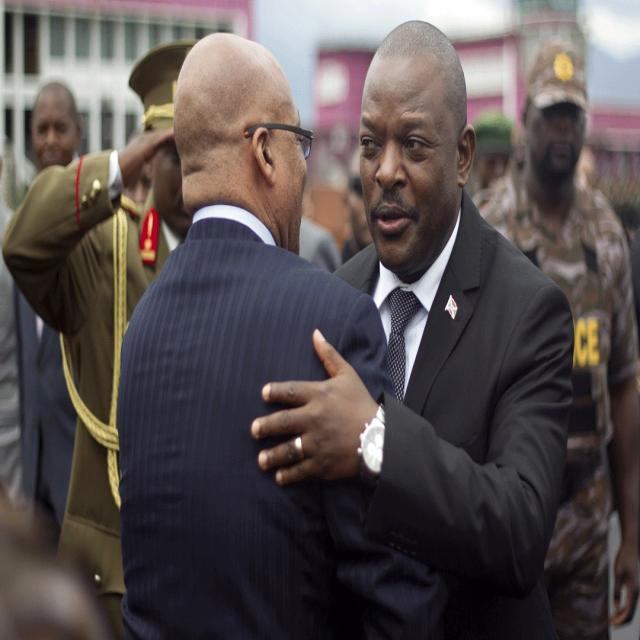body: (239, 6, 581, 639), (117, 31, 446, 639), (0, 35, 201, 639), (470, 35, 640, 639), (297, 111, 639, 302), (10, 80, 86, 560), (0, 497, 104, 639), (0, 154, 30, 497), (115, 132, 151, 205)
